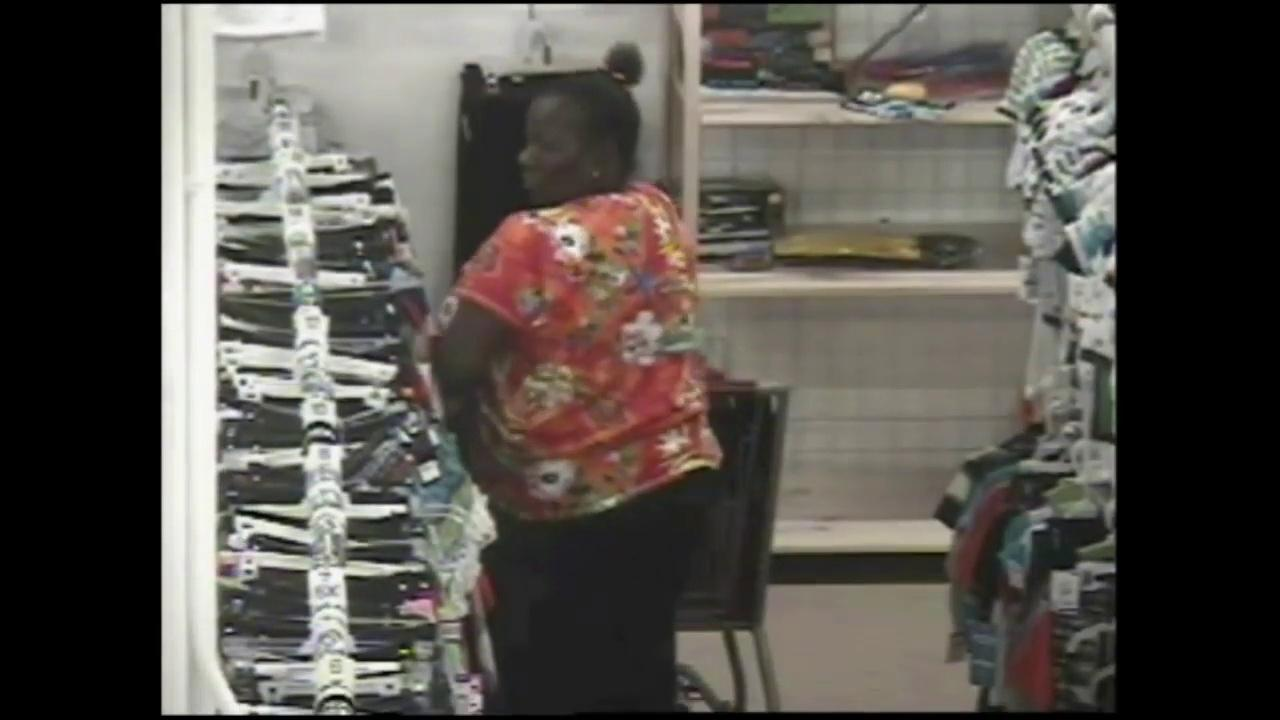Regular: (366, 21, 820, 720)
Shopping-Cart: (688, 364, 793, 633)
